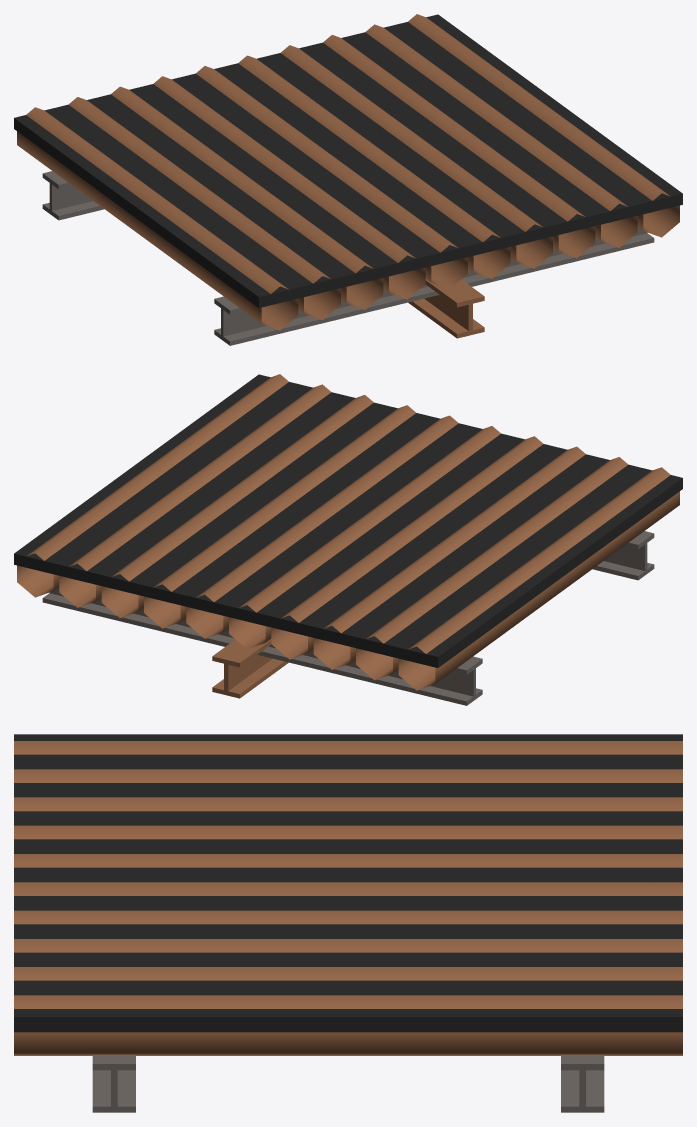
Rendered from ceil_wk_beams.glb.
3 renders of one model, top to bottom at view 1: azimuth 30°, elevation 25°; view 2: azimuth 150°, elevation 25°; view 3: azimuth 270°, elevation 25°, orthographic. The views are drawn at different scales.
Parts seen in each view (by area): view 1: ceil_wk_beams; view 2: ceil_wk_beams; view 3: ceil_wk_beams.
Part boxes in pixels (x1,y1,x2,y2): ceil_wk_beams: (14,14,682,345); ceil_wk_beams: (14,374,682,705); ceil_wk_beams: (14,734,682,1112).
Size of the model in its own units: 4 by 0.86 by 4.
